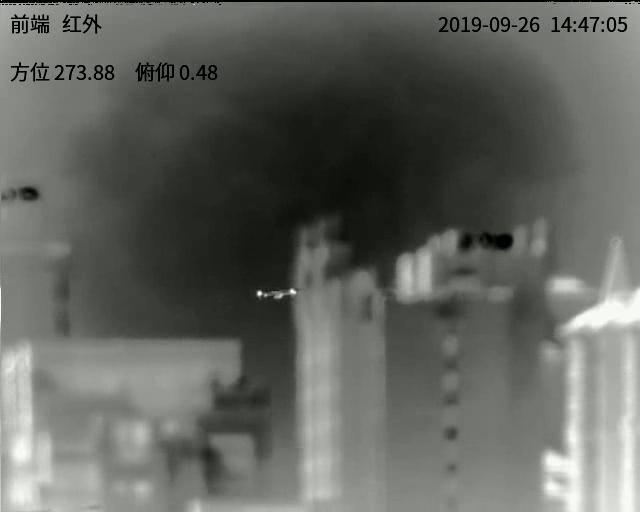DRONE: (254, 287, 301, 301)
